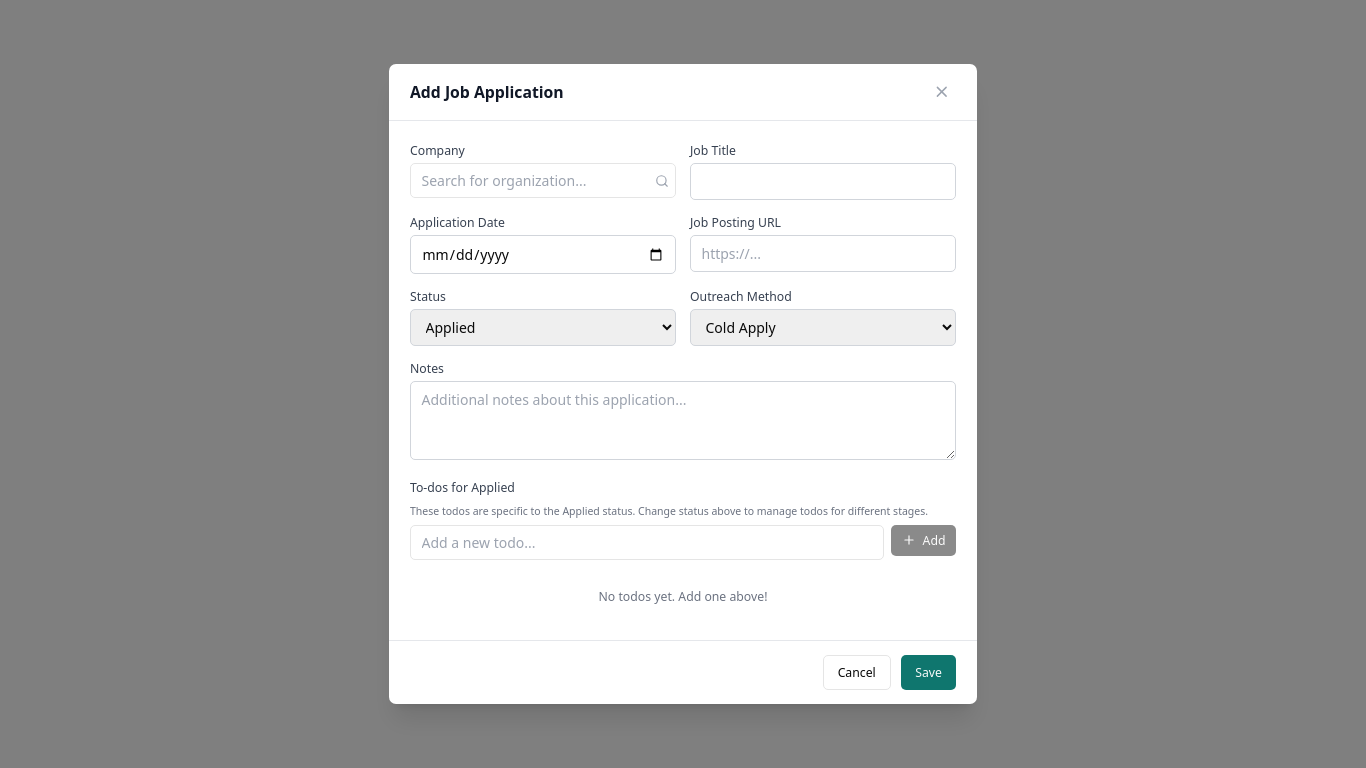
Scenario: ApplicationModal - OrganizationSelector Integration › should show create option when searching for non-existent organization
# Type a company name
Type "NonExistentCompanyXYZ123" into the field with placeholder "Search for organization..." at (543, 180), box [410, 163, 676, 198]
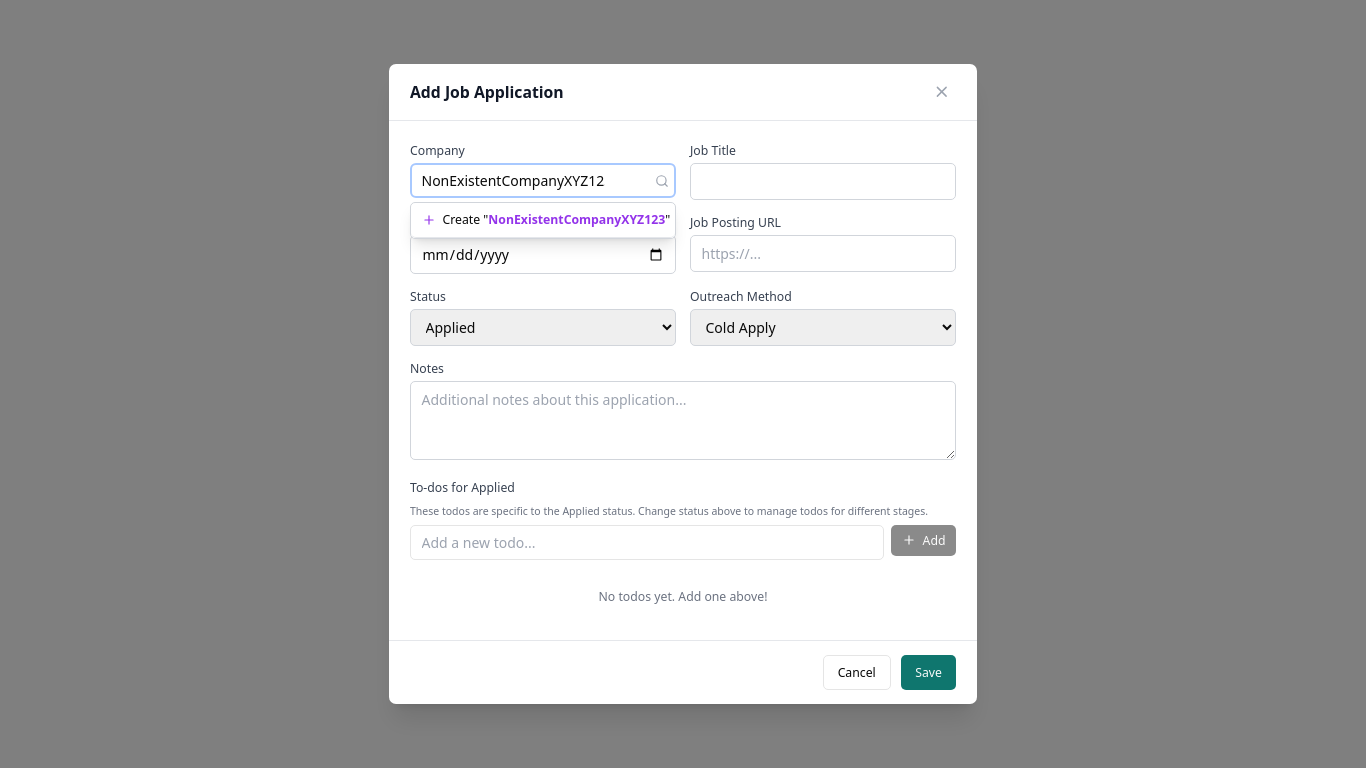
Result: the button "Create \"NonExistentCompanyXYZ123\"" is shown at [411, 202, 675, 238]
